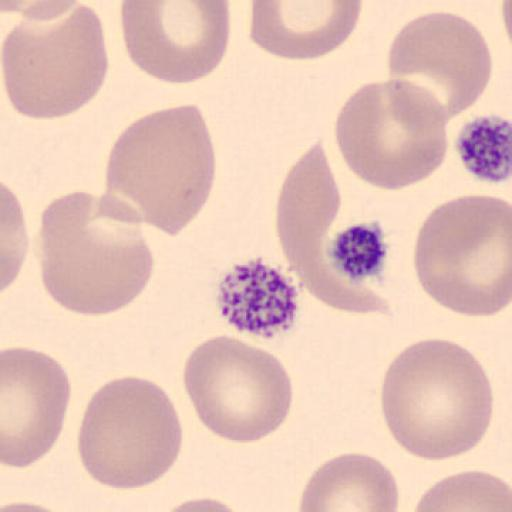Platelet: (214, 256, 304, 342), (452, 111, 512, 185)
RBC: (104, 102, 218, 238), (38, 190, 156, 318), (380, 336, 495, 462), (332, 77, 450, 192), (2, 2, 110, 121), (411, 192, 512, 319), (181, 334, 295, 445), (76, 374, 184, 491), (386, 9, 494, 119), (274, 141, 343, 292), (118, 0, 232, 86), (2, 345, 72, 470), (248, 0, 364, 62), (296, 451, 400, 512), (297, 259, 394, 316), (412, 468, 511, 512), (0, 180, 30, 294), (16, 0, 89, 23), (159, 495, 252, 512), (0, 500, 74, 512), (499, 0, 512, 45), (502, 0, 512, 58)
